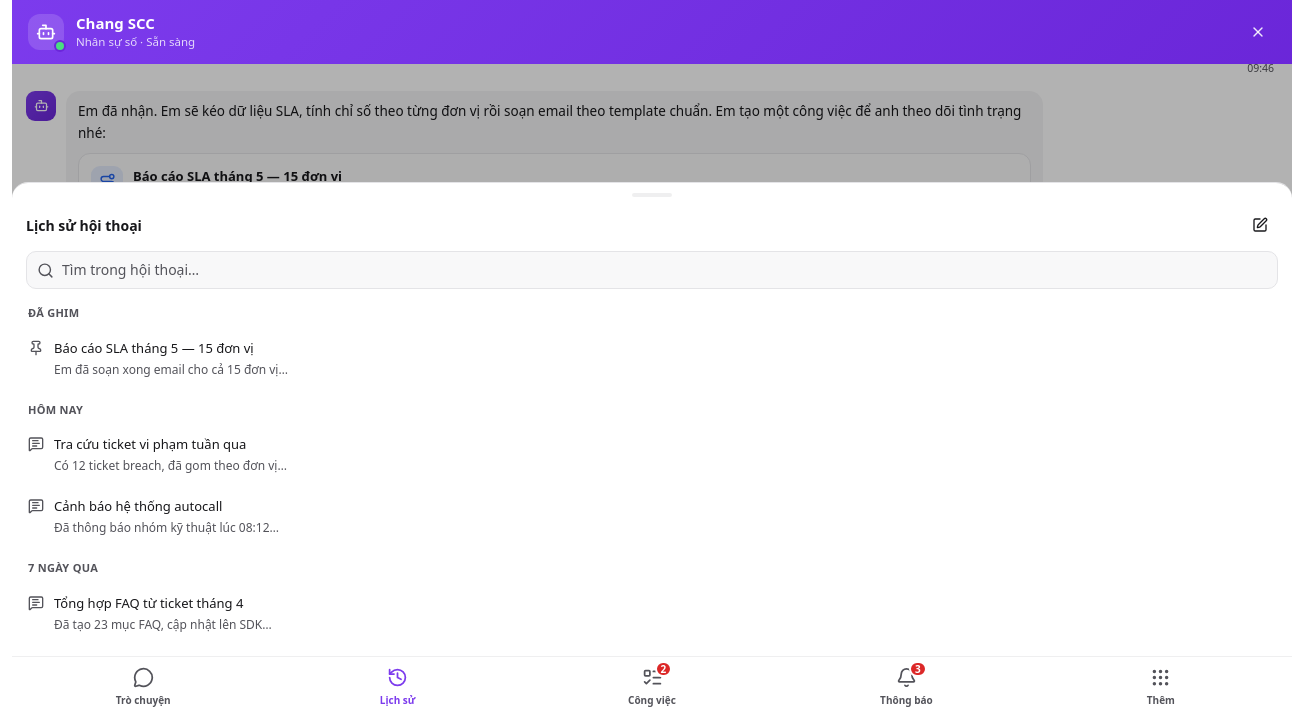
Test: closes the sheet and highlights chat when the chat tab is clicked while a sheet is open
(page scrolled)
Expected: the text "Lịch sử hội thoại" is shown, [26, 216, 142, 235]
What coordinates should you click on to do the following:
click the tab "Trò chuyện"
I would click on:
 (143, 688)
Its box is [16, 661, 270, 716].
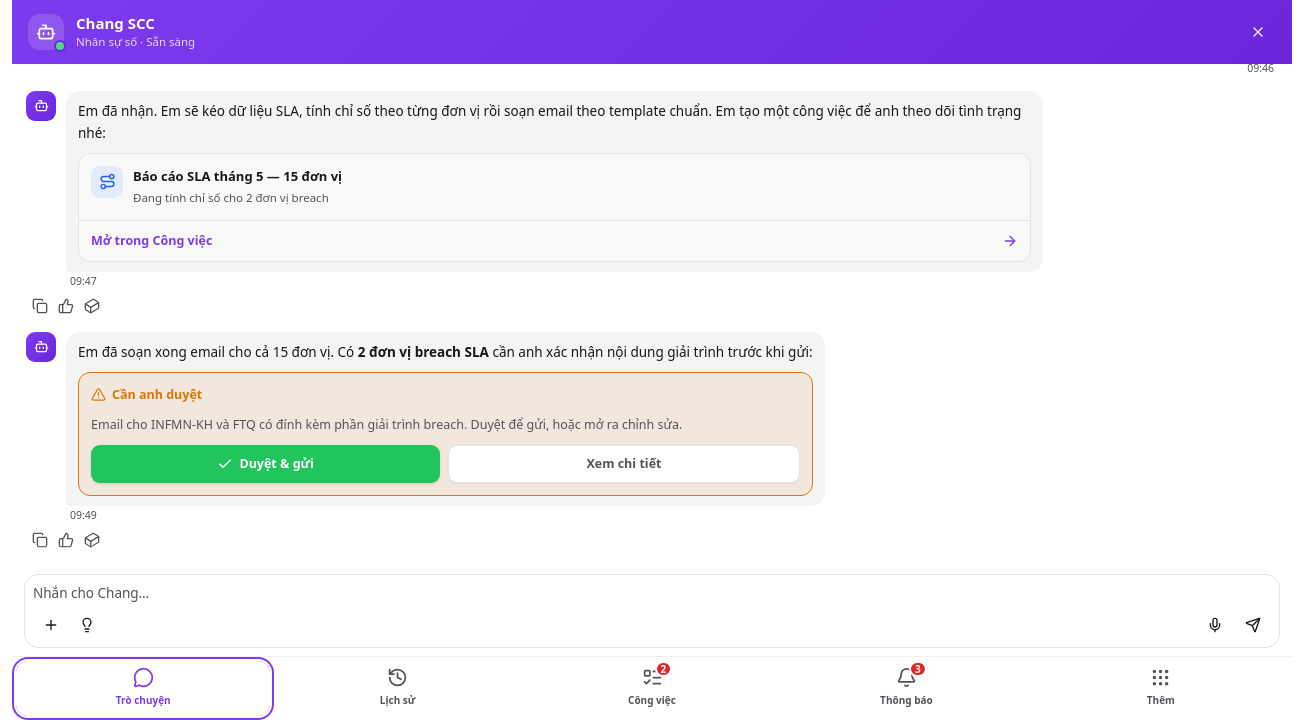
Result: the text "Lịch sử hội thoại" is gone
